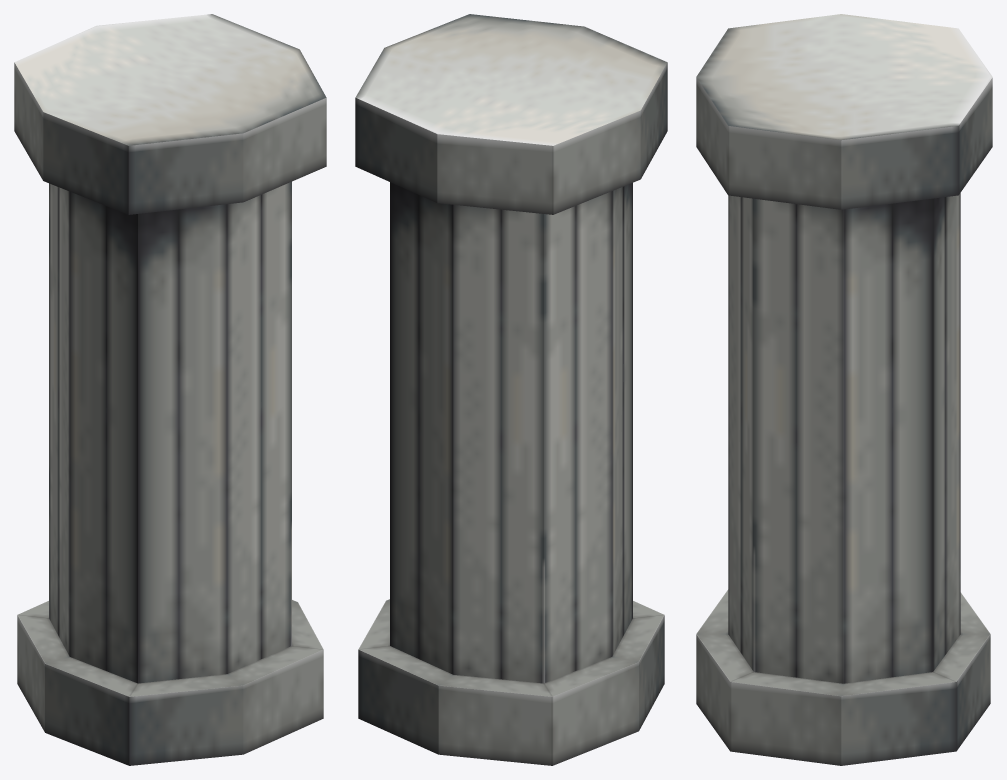
Rendered from Inside_Poly_Round_Pillar_01.obj.
3 renders of one model, left to right at view 1: azimuth 30°, elevation 25°; view 2: azimuth 150°, elevation 25°; view 3: azimuth 270°, elevation 25°, orthographic.
Visible parts, largest first — view 1: Cube.001; view 2: Cube.001; view 3: Cube.001.
Part boxes in pixels (x1,y1,x2,y2): Cube.001: [14, 14, 326, 765]; Cube.001: [355, 14, 667, 765]; Cube.001: [696, 14, 992, 765].
Bounding box in the file's own units: 1.17 × 2.7 × 1.16.
Materials: 1 (1 with a texture image).
